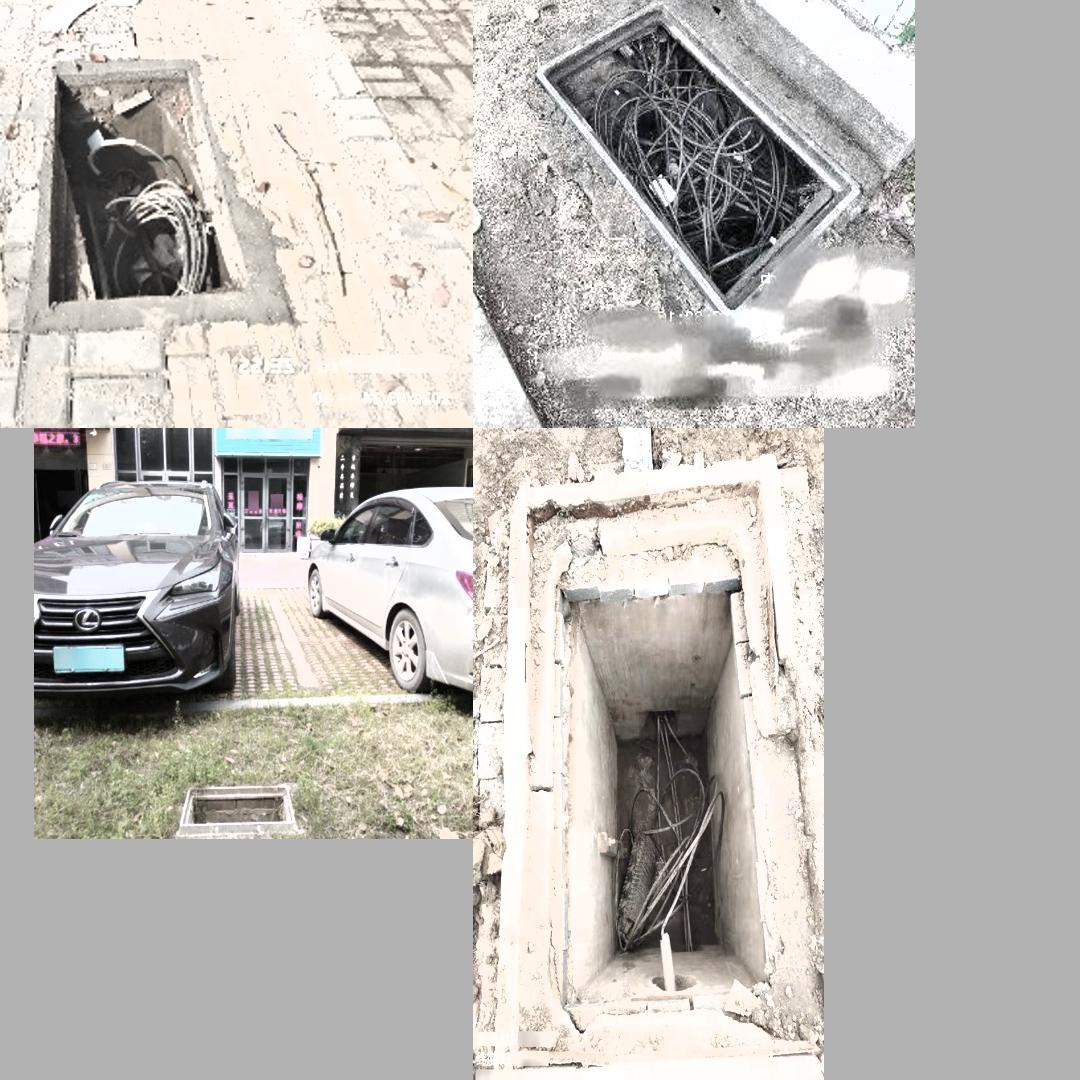lose: (492, 455, 824, 1080), (13, 21, 292, 356), (533, 13, 864, 240), (179, 777, 297, 831)
